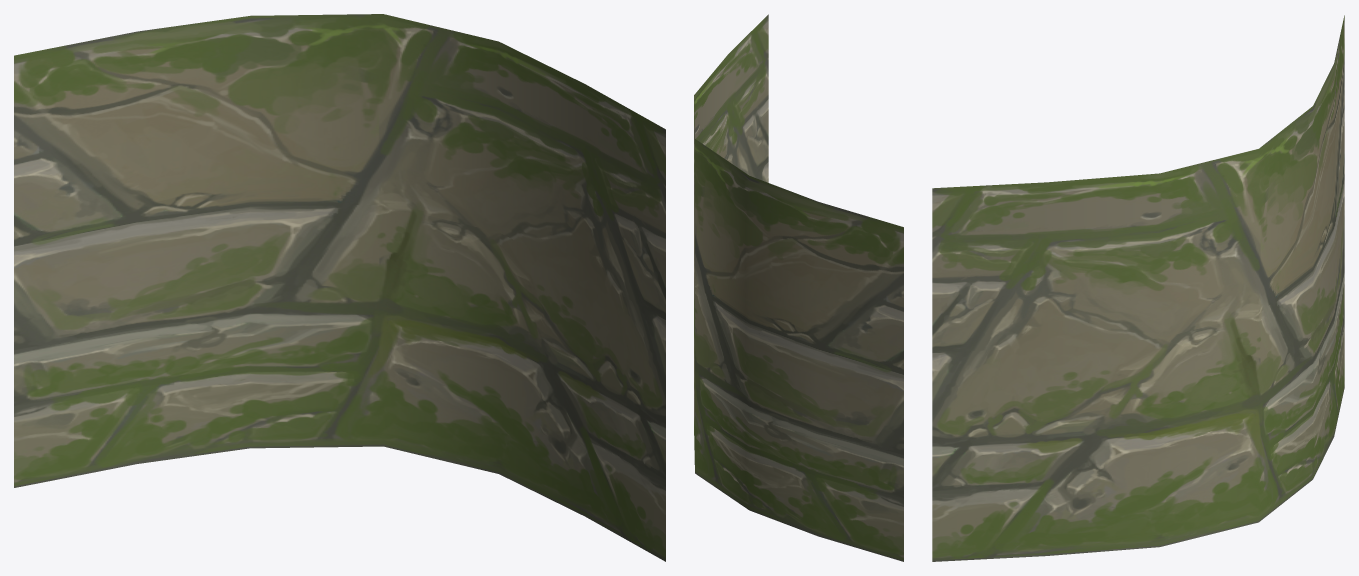
The model's file is wall_concave1.fbx.
The picture shows the model from 3 angles, left to right: view 1: azimuth 30°, elevation 25°; view 2: azimuth 150°, elevation 25°; view 3: azimuth 270°, elevation 25°; orthographic projection. The views are drawn at different scales.
Parts seen in each view (by area): view 1: convex2_v; view 2: convex2_v; view 3: convex2_v.
Part boxes in pixels (x1,y1,x2,y2): convex2_v: (14, 14, 665, 561); convex2_v: (694, 14, 903, 561); convex2_v: (932, 15, 1344, 561).
Bounding box in the file's own units: 2 × 2 × 2.
